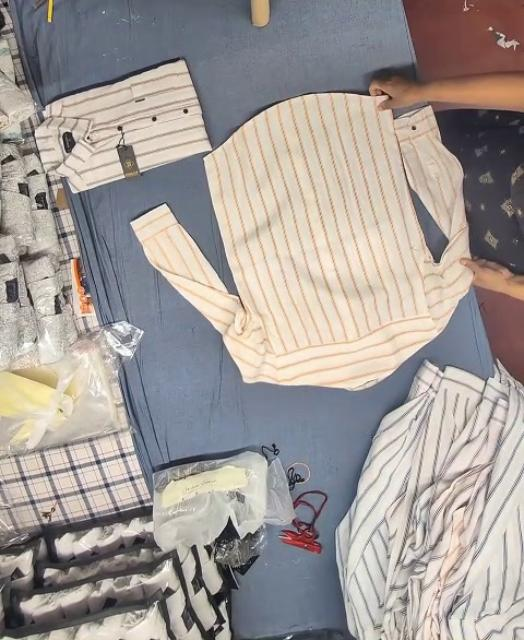new-garment: (132, 93, 469, 389)
